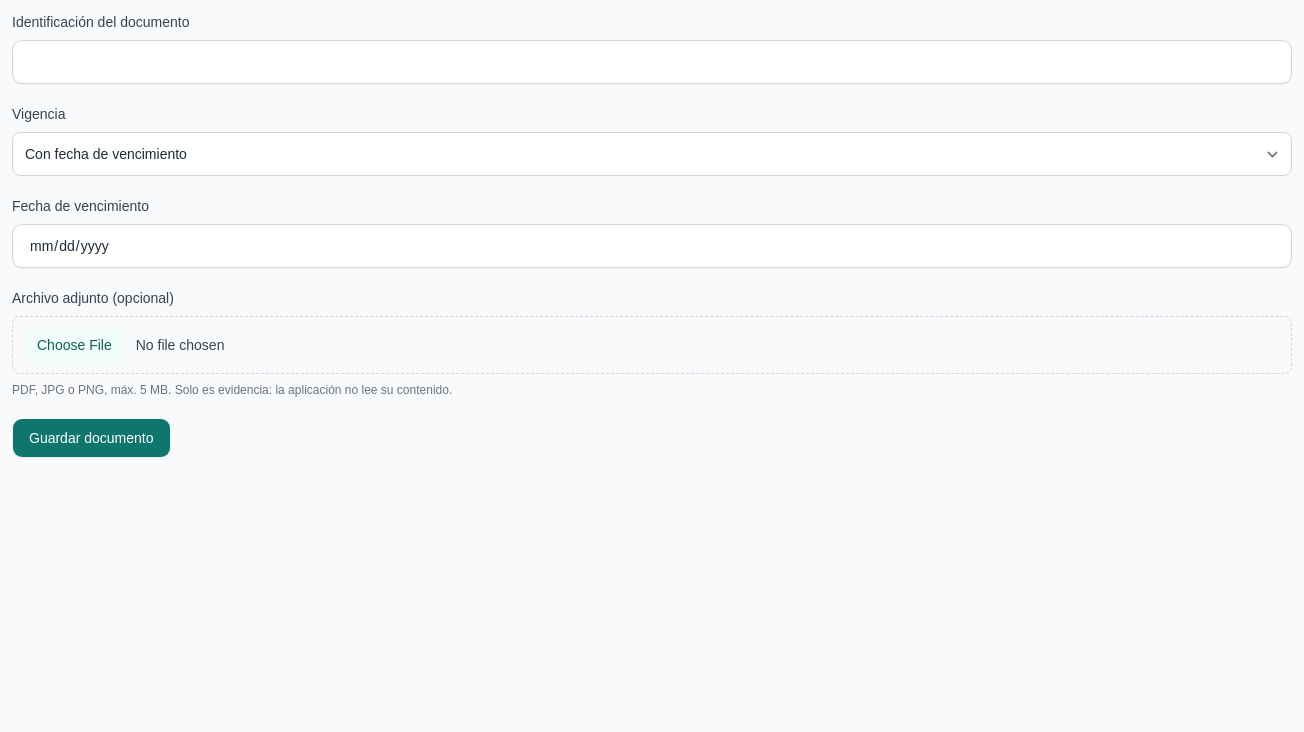
Test case: Comportamiento visible (12 pruebas) › R11 DOC-001/002: exige identificación y fecha cuando corresponde
The image size is (1304, 732).
Step 1. Click the button "Guardar documento" → (91, 438), box [12,418,170,458]
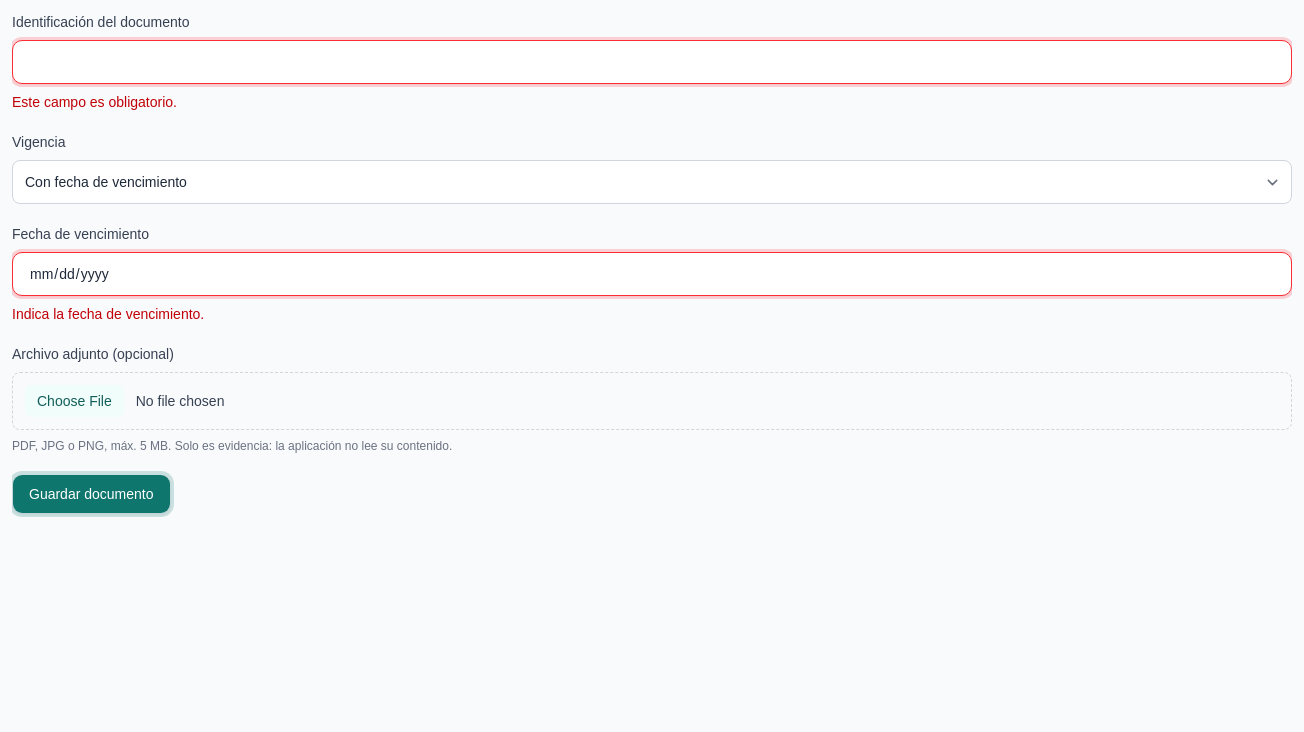
Expected: the text "Este campo es obligatorio." is shown, [12,94,177,110]
Expected: the text "Indica la fecha de vencimiento." is shown, [12,306,204,322]
